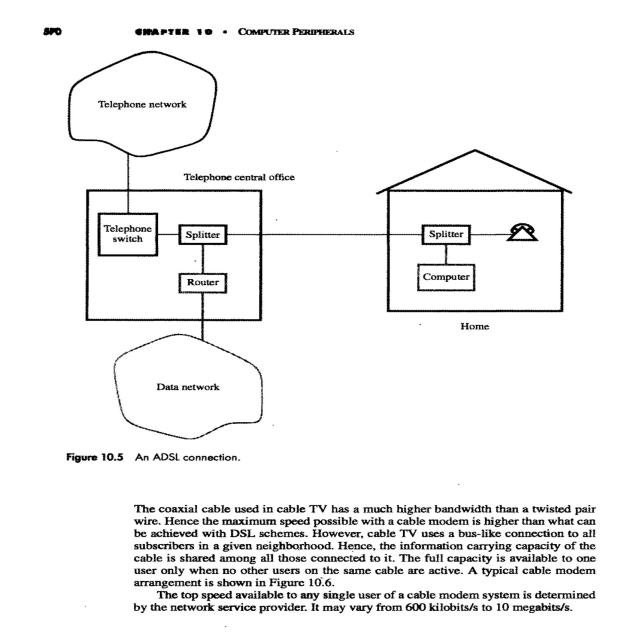diagram: (6, 47, 640, 463)
